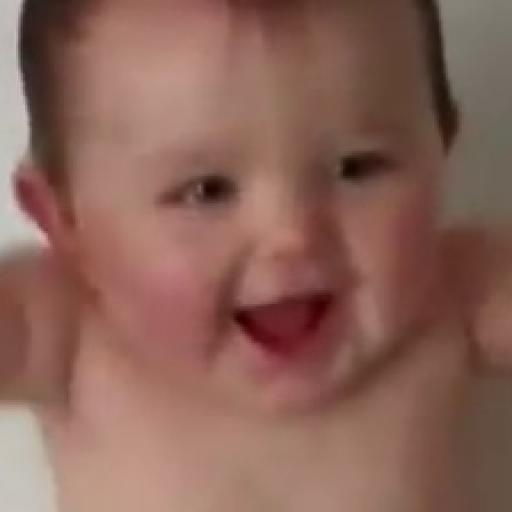Autism: (45, 13, 512, 480)
